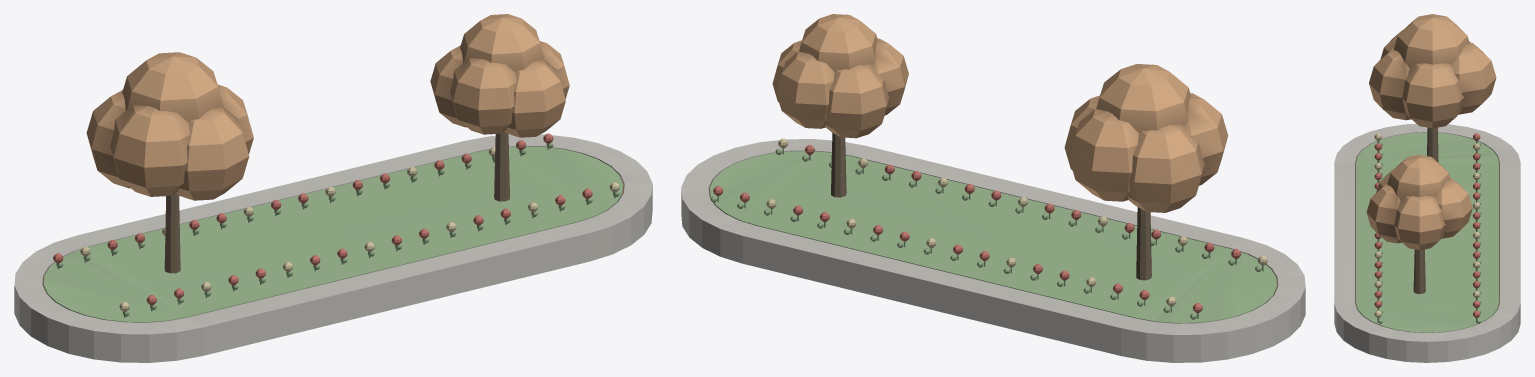
File: plaza_garden_long_autumn.glb
3 views of the same model, side by side, from view 1: azimuth 30°, elevation 25°; view 2: azimuth 150°, elevation 25°; view 3: azimuth 270°, elevation 25° (orthographic). The views are drawn at different scales.
Size of the model in its own units: 10 by 3.82 by 3.6.
